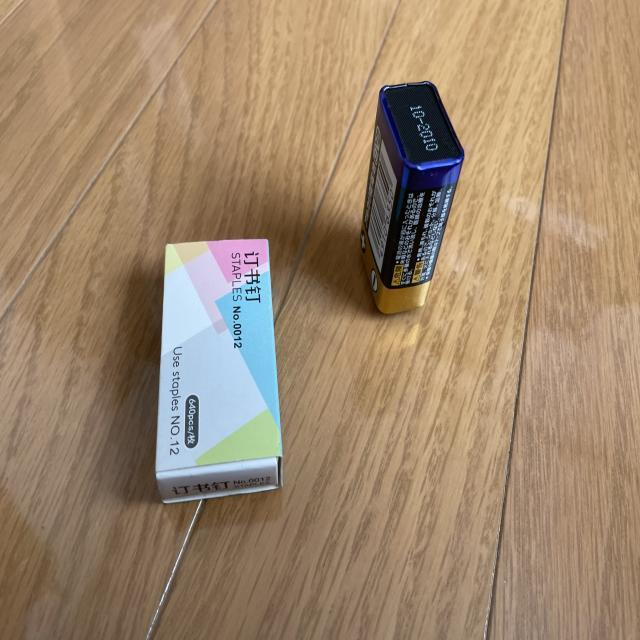9V: (357, 81, 465, 317)
